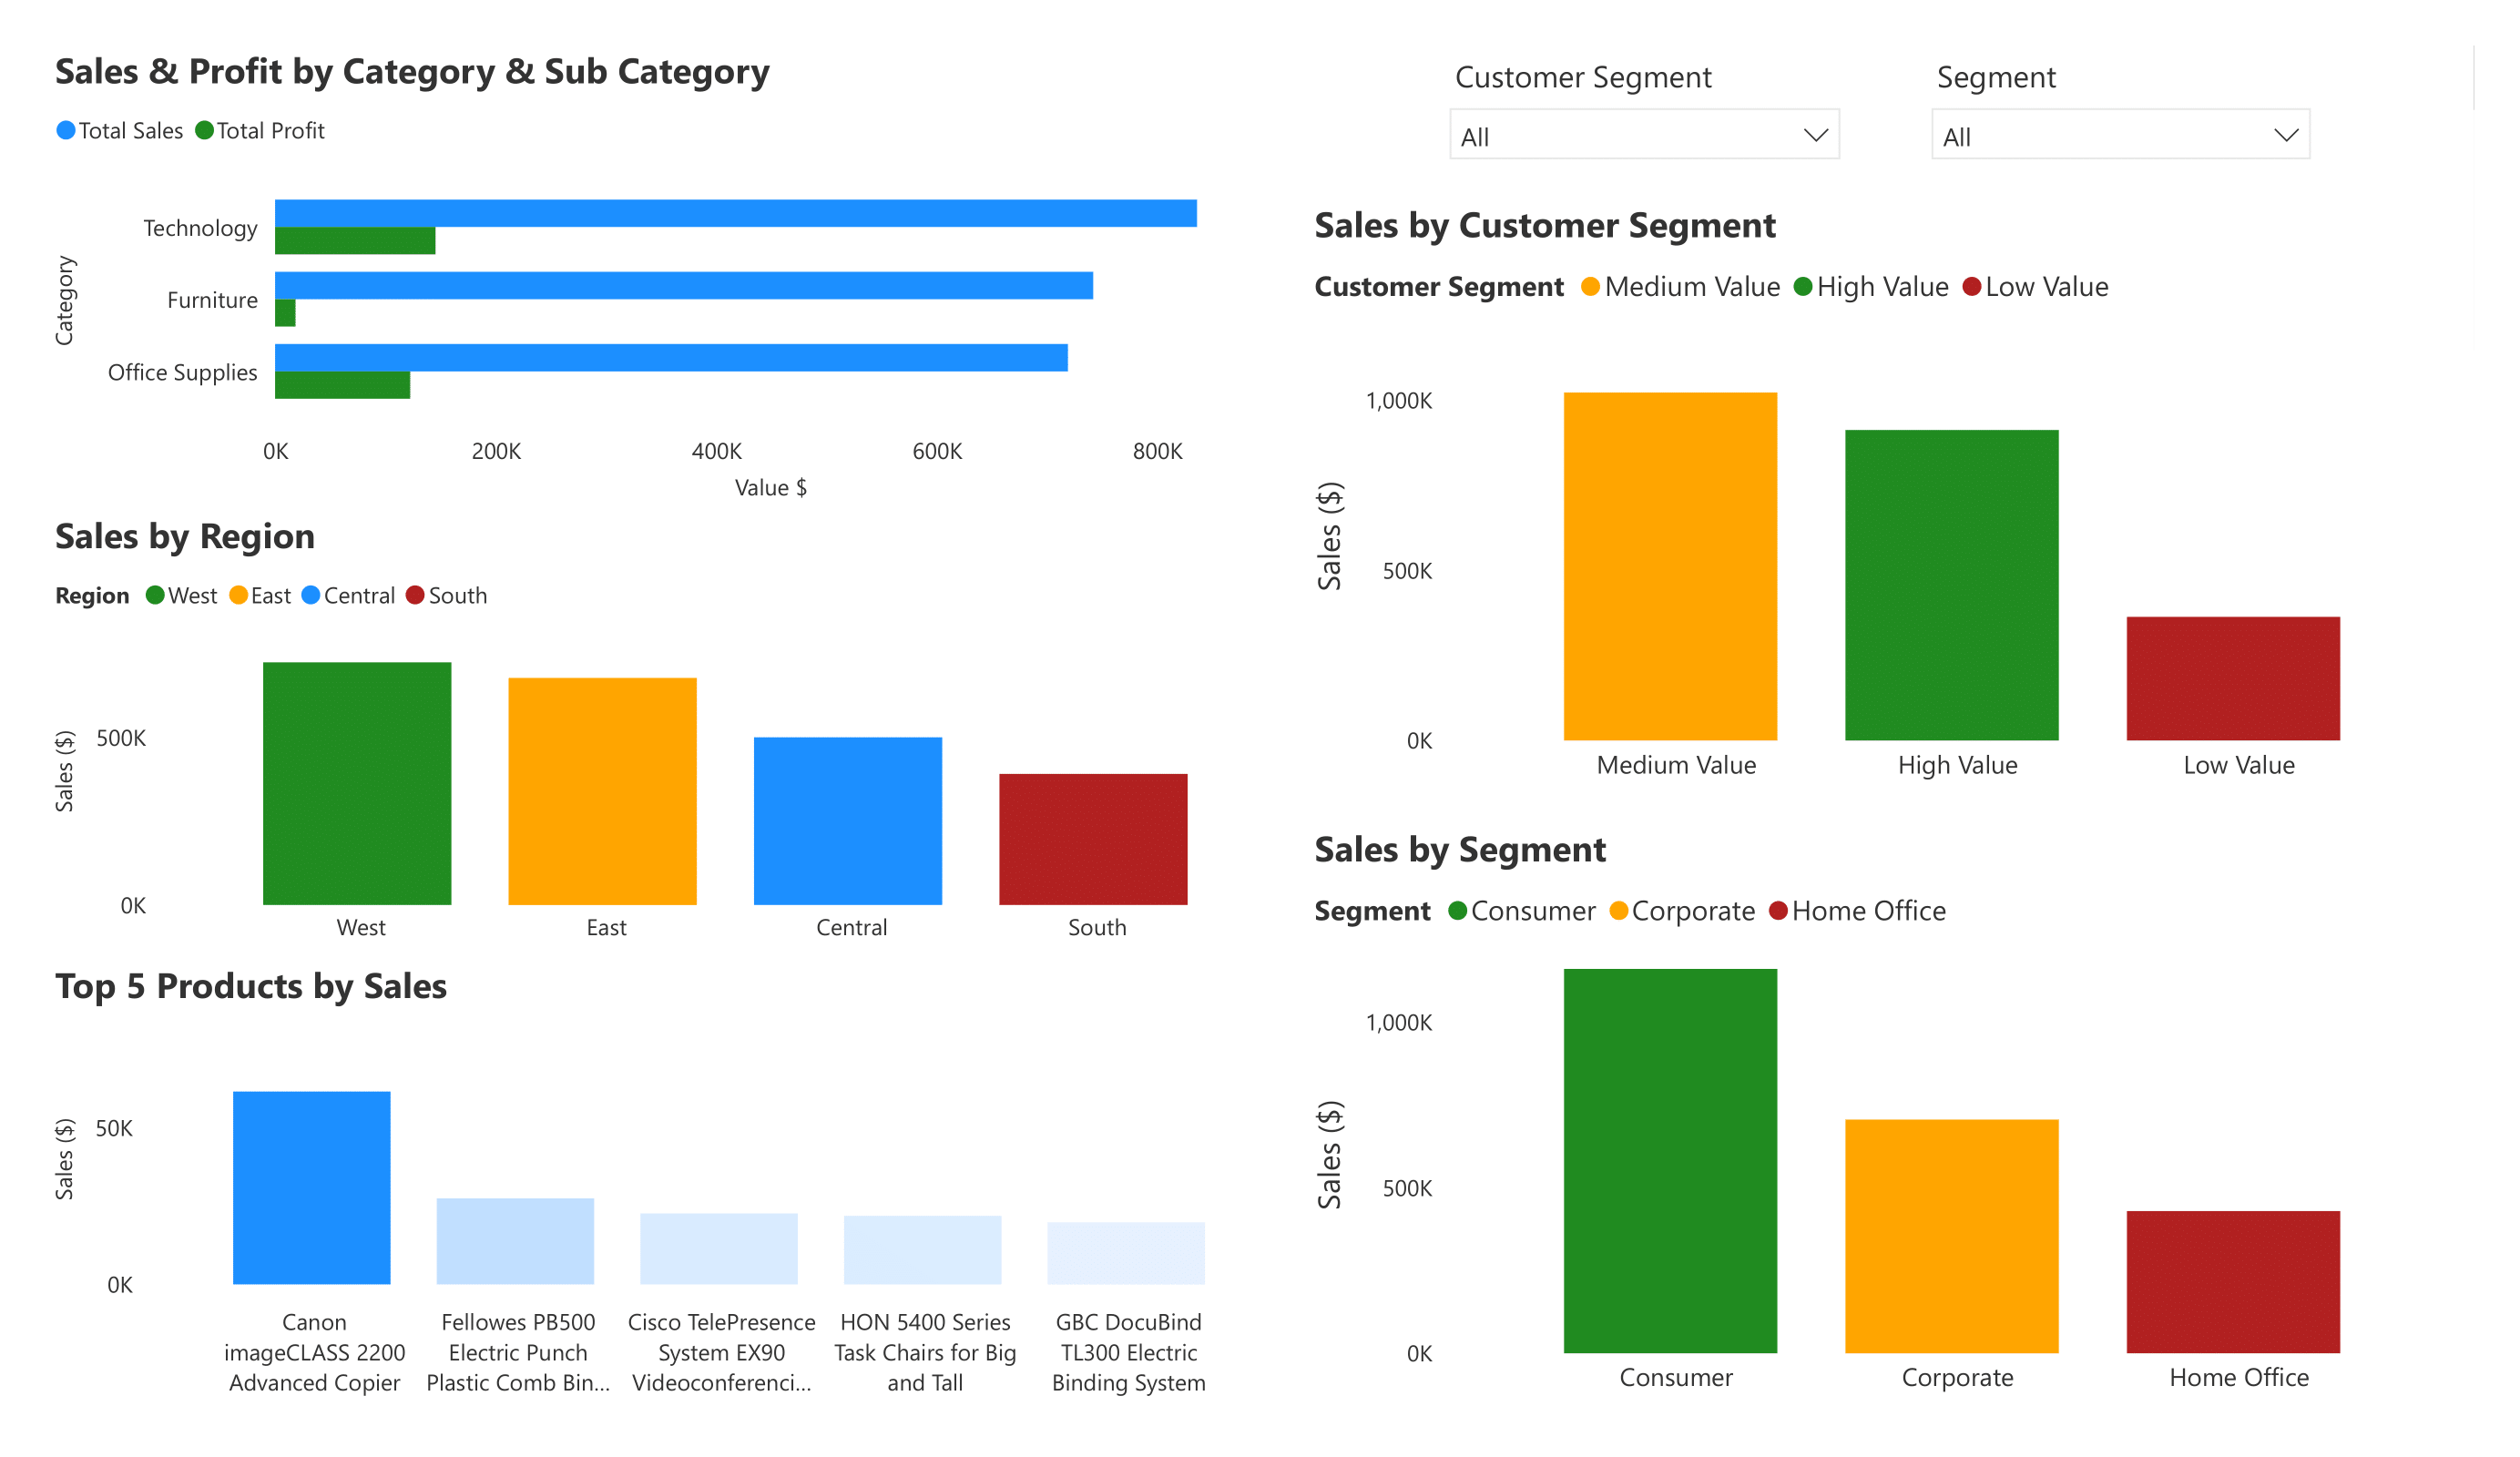

The dashboard page shown, as its layout file describes it:
{"tool":"powerbi","page":{"name":"Page 4","canvas":[1280,720],"ordinal":1},"visuals":[{"type":"columnChart","title":"Total Sales by Region","fields":{"Category":["superstoresales_clean.Region"],"Y":["superstoresales_clean.Total Sales"],"Series":["superstoresales_clean.Region"]},"box":[0,245.3,662.7,237.3],"z":0},{"type":"columnChart","title":"Top 5 Products by Total Sales","fields":{"Category":["superstoresales_clean.ProductName"],"Y":["superstoresales_clean.Total Sales"]},"box":[0,482,662,238],"z":1000},{"type":"clusteredBarChart","title":"Total Sales & Total Profit by Category","fields":{"Category":["superstoresales_clean.Category","superstoresales_clean.SubCategory"],"Y":["superstoresales_clean.Total Sales","superstoresales_clean.Total Profit"]},"box":[0,0,662.7,245.3],"z":2000},{"type":"columnChart","title":"Total Sales by Customer Segment","fields":{"Y":["superstoresales_clean.Total Sales"],"Category":["superstoresales_clean.CustomerSegment"],"Series":["superstoresales_clean.CustomerSegment"]},"box":[663.8,80.6,616.3,316.8],"z":3000},{"type":"columnChart","title":"Total Sales by Segment","fields":{"Y":["superstoresales_clean.Total Sales"],"Category":["superstoresales_clean.Segment"],"Series":["superstoresales_clean.Segment"]},"box":[663.8,410.4,616.3,309.6],"z":4000},{"type":"slicer","fields":{"Values":["superstoresales_clean.CustomerSegment"]},"box":[730.1,0,226.1,73.4],"z":5000},{"type":"slicer","fields":{"Values":["superstoresales_clean.Segment"]},"box":[983.5,0,220.3,66.2],"z":6000}]}

Visuals, with their boxes on the page's 1280x720 design canvas (x1, y1, x2, y2). These are canvas units, not pixel positions in the 2520x1457 screenshot, which may show the page scaled, cropped or inside an application window:
"Total Sales by Region" columnChart: <box>0,245,663,483</box>
"Top 5 Products by Total Sales" columnChart: <box>0,482,662,720</box>
"Total Sales & Total Profit by Category" clusteredBarChart: <box>0,0,663,245</box>
"Total Sales by Customer Segment" columnChart: <box>664,81,1280,397</box>
"Total Sales by Segment" columnChart: <box>664,410,1280,720</box>
slicer - superstoresales_clean.CustomerSegment: <box>730,0,956,73</box>
slicer - superstoresales_clean.Segment: <box>984,0,1204,66</box>
